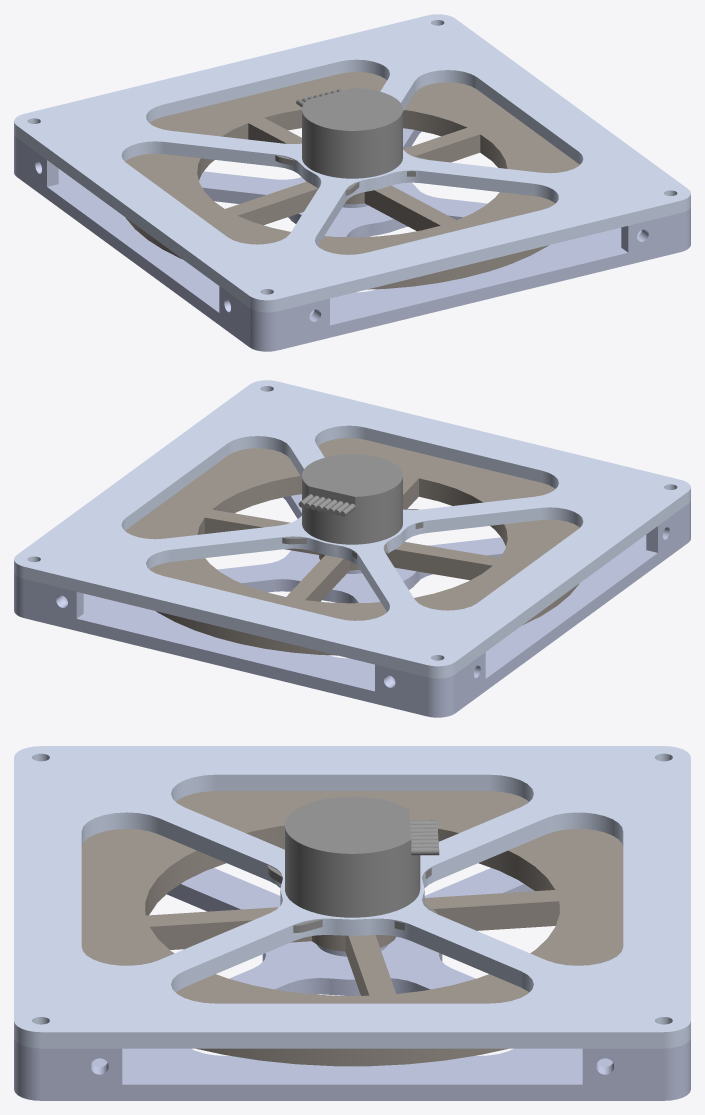
File: Mk2RWCage.glb
3 renders of one model, top to bottom at view 1: azimuth 30°, elevation 25°; view 2: azimuth 150°, elevation 25°; view 3: azimuth 270°, elevation 25°, orthographic. The views are drawn at different scales.
Parts seen in each view (by area): view 1: Mk2CageWall-1, MonolithicCageWall-1, SteelFlywheelMonolithic-1, FAULHABER1509BMotor-1; view 2: Mk2CageWall-1, MonolithicCageWall-1, SteelFlywheelMonolithic-1, FAULHABER1509BMotor-1; view 3: Mk2CageWall-1, SteelFlywheelMonolithic-1, MonolithicCageWall-1, FAULHABER1509BMotor-1.
Boxes of the visible parts, x1,y1,x2,y2 form: Mk2CageWall-1: (14, 14, 690, 312); MonolithicCageWall-1: (14, 128, 690, 351); SteelFlywheelMonolithic-1: (125, 72, 579, 289); FAULHABER1509BMotor-1: (275, 88, 427, 195); Mk2CageWall-1: (14, 380, 690, 678); MonolithicCageWall-1: (14, 494, 690, 717); SteelFlywheelMonolithic-1: (125, 438, 579, 655); FAULHABER1509BMotor-1: (282, 454, 423, 558); Mk2CageWall-1: (14, 746, 690, 1048); SteelFlywheelMonolithic-1: (81, 791, 623, 1066); MonolithicCageWall-1: (14, 868, 690, 1100); FAULHABER1509BMotor-1: (267, 796, 439, 932).
Bounding box in the file's own units: 0.075 × 0.0164 × 0.075.
